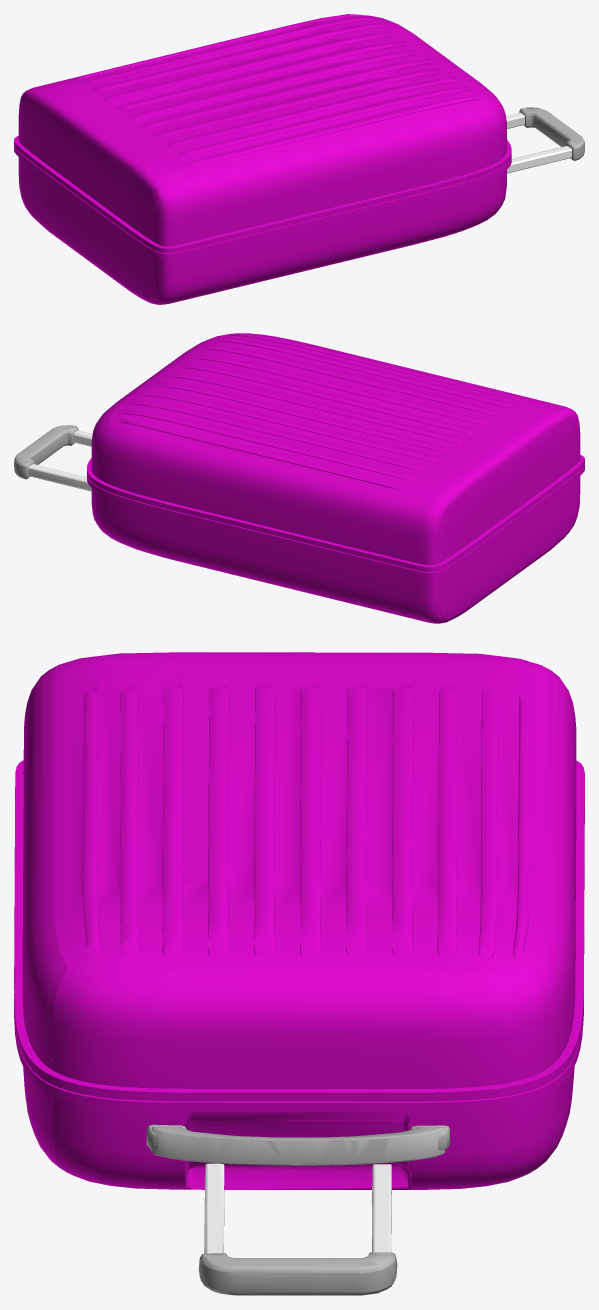
File: luggage1.fbx
The picture shows the model from 3 angles, top to bottom: view 1: azimuth 30°, elevation 25°; view 2: azimuth 150°, elevation 25°; view 3: azimuth 270°, elevation 25°; orthographic projection. The views are drawn at different scales.
Visible parts, largest first — view 1: luggage1; view 2: luggage1; view 3: luggage1.
Boxes of the visible parts, <box> form: luggage1: <box>14,14,584,304</box>; luggage1: <box>14,333,584,623</box>; luggage1: <box>14,652,584,1295</box>.
Bounding box in the file's own units: 216 × 58.38 × 120.
